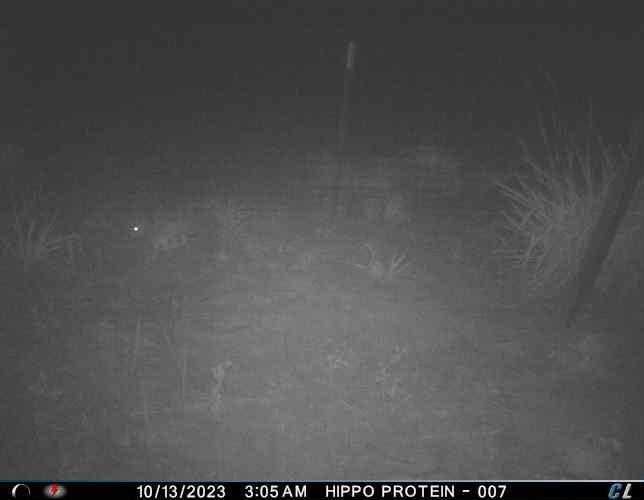Rabbit: (125, 208, 192, 261)
